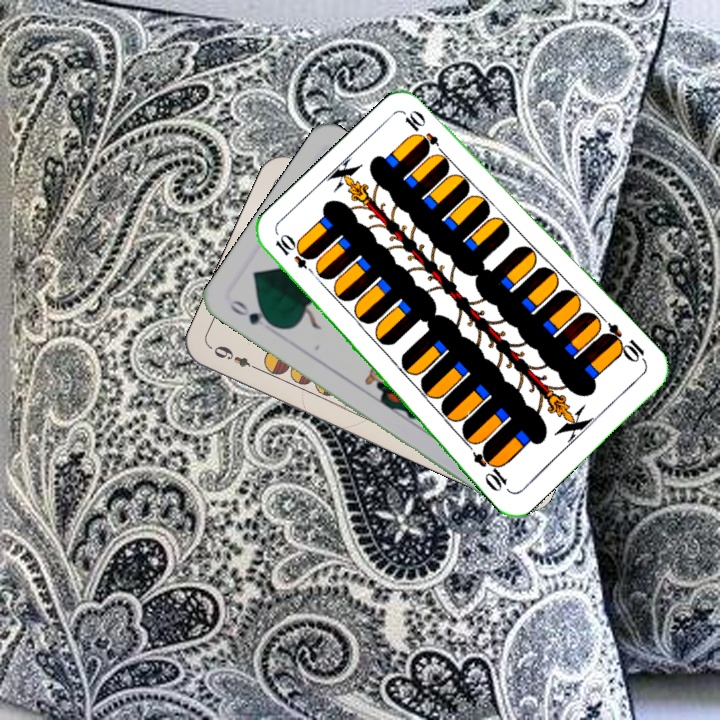E10: (271, 230, 321, 280), (599, 319, 650, 367)
E9: (207, 341, 263, 374)
GO: (224, 296, 280, 331)
